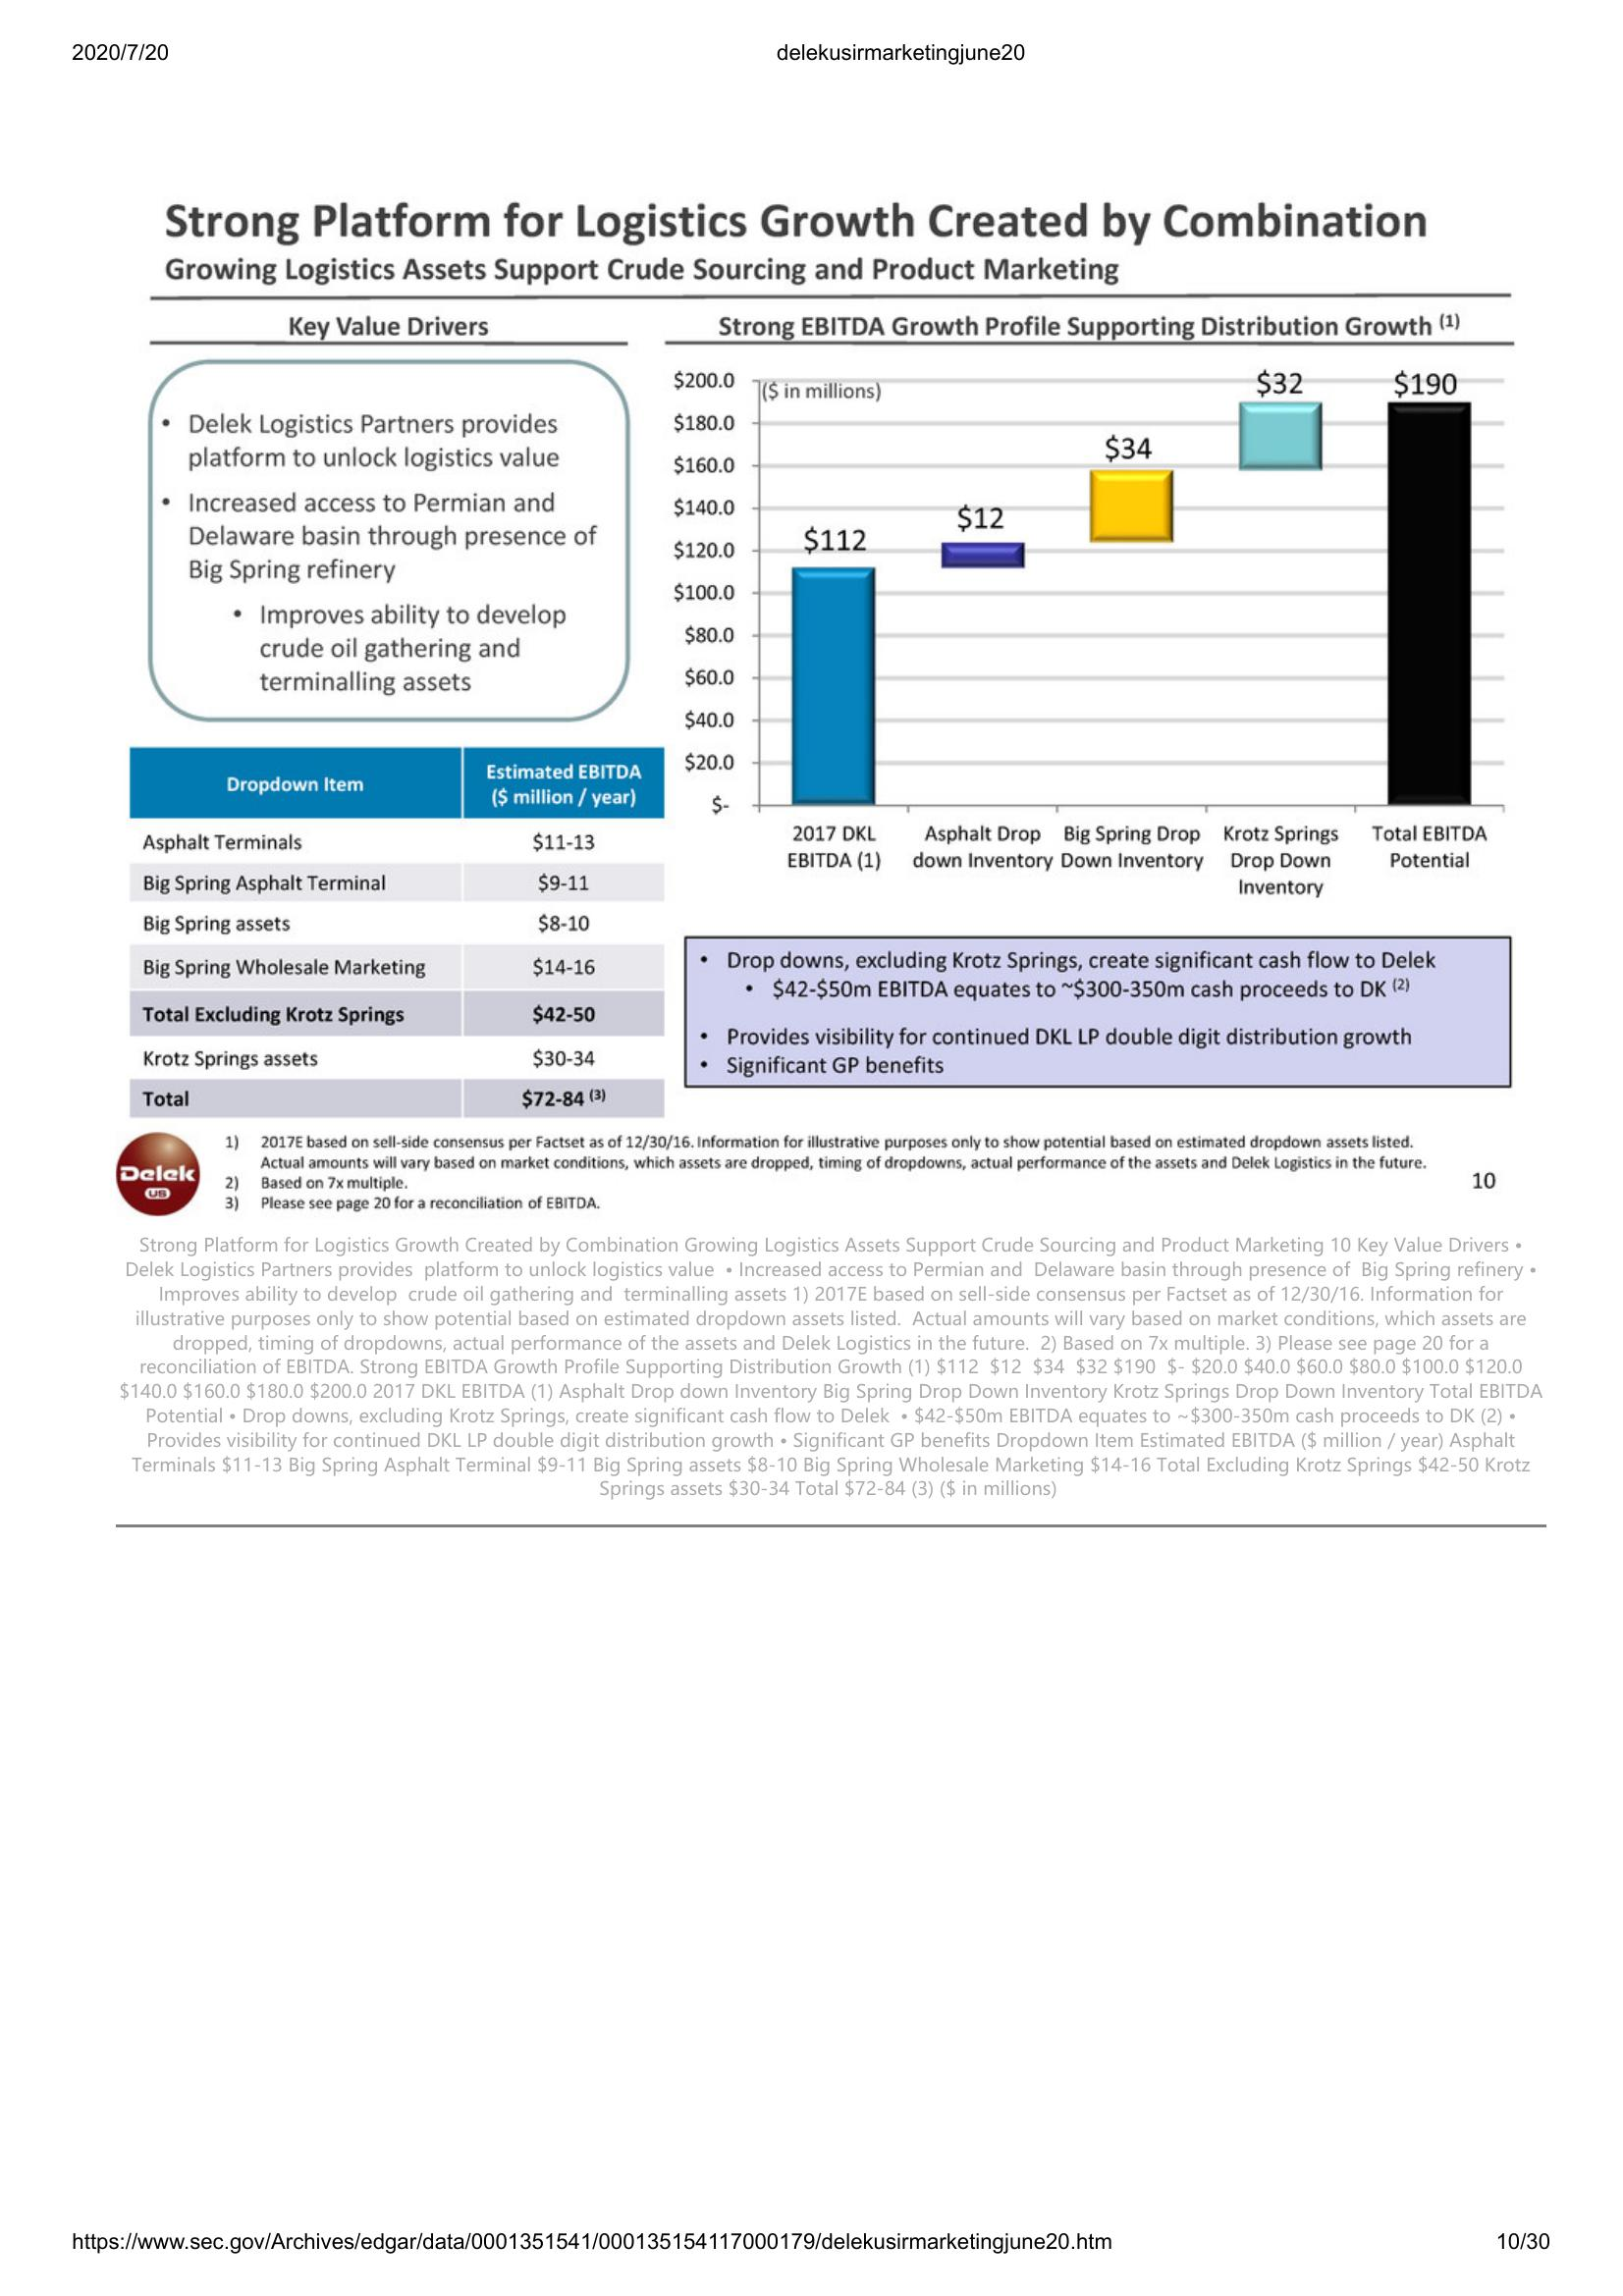table: (128, 741, 667, 1129)
